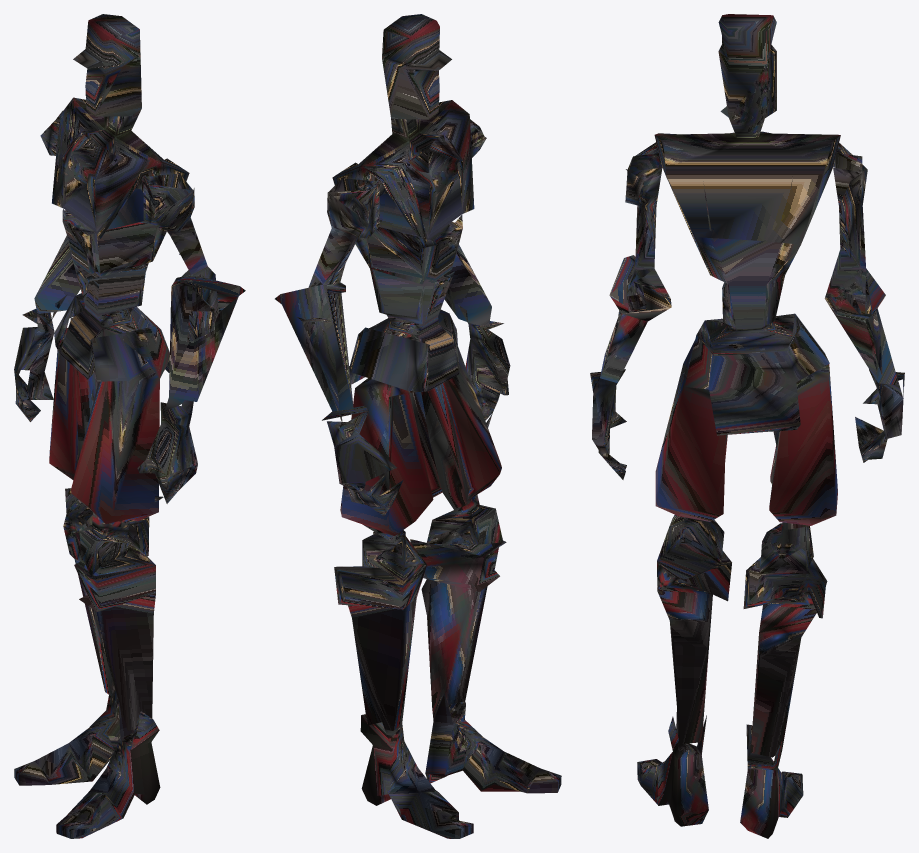
File: npc-ww1-lod.glb
3 renders of one model, left to right at view 1: azimuth 30°, elevation 25°; view 2: azimuth 150°, elevation 25°; view 3: azimuth 270°, elevation 25°, orthographic. The views are drawn at different scales.
Visible parts, largest first — view 1: Object_566_baked; view 2: Object_566_baked; view 3: Object_566_baked.
Part boxes in pixels (x1,y1,x2,y2): Object_566_baked: [14, 14, 245, 838]; Object_566_baked: [275, 14, 561, 838]; Object_566_baked: [590, 14, 904, 838].
Size of the model in its own units: 0.5104 by 2.13 by 0.7567.
1 material, 1 textured.
